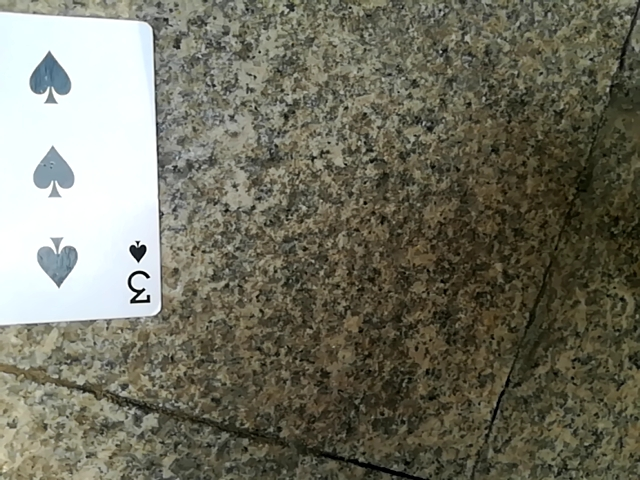ht 3: (0, 9, 165, 335)
